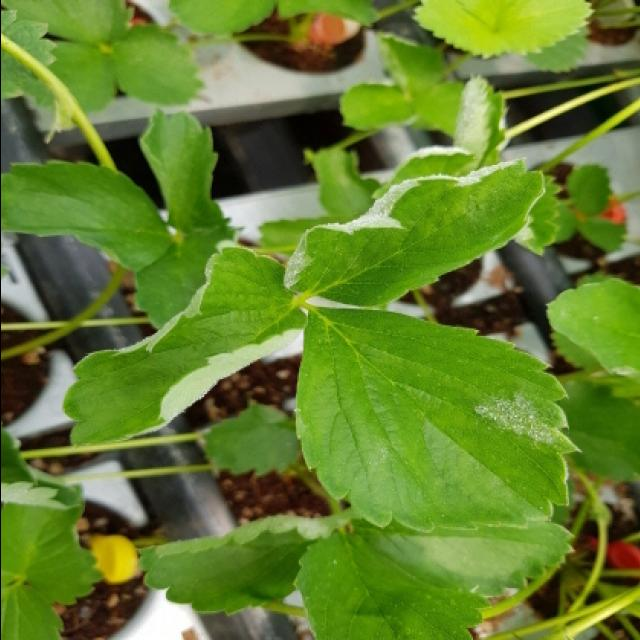Powdery Mildew Leaf: (293, 306, 586, 535), (62, 245, 306, 450), (281, 158, 547, 308), (544, 277, 640, 402), (2, 422, 81, 513), (371, 145, 476, 200), (454, 75, 506, 171)
